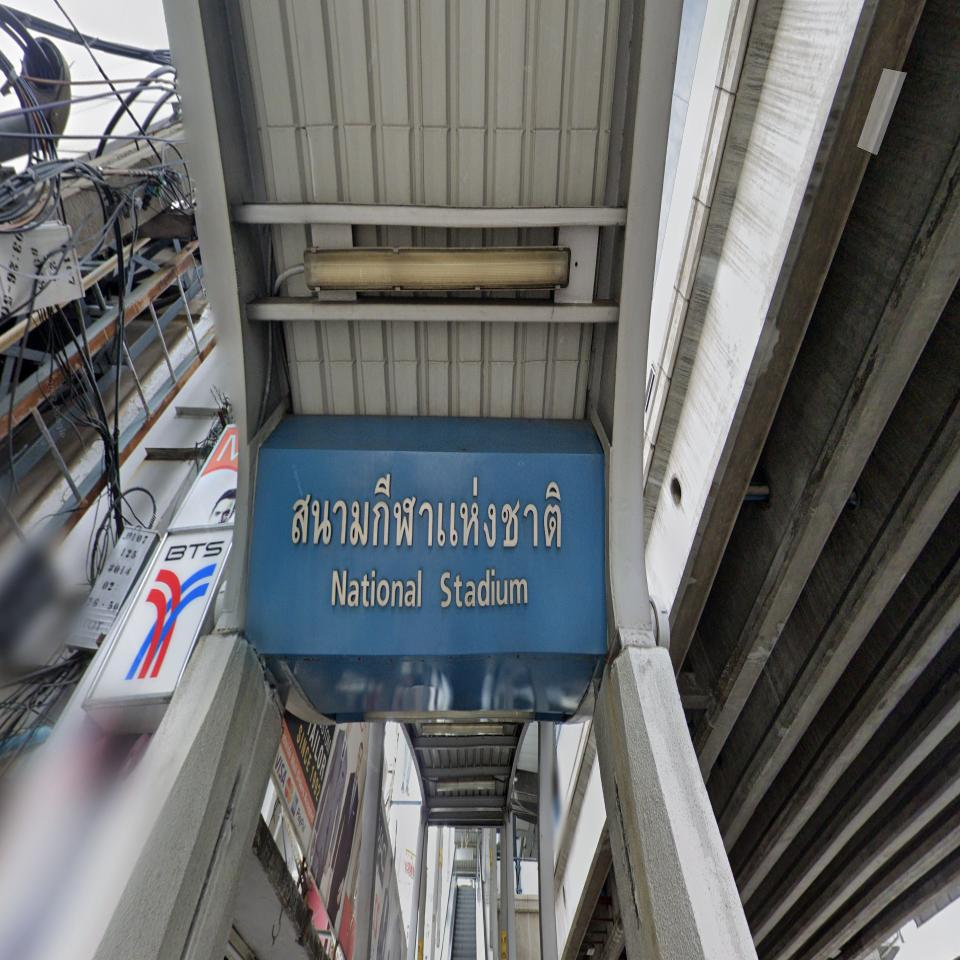signage: (82, 446, 608, 707), (244, 446, 608, 652)
